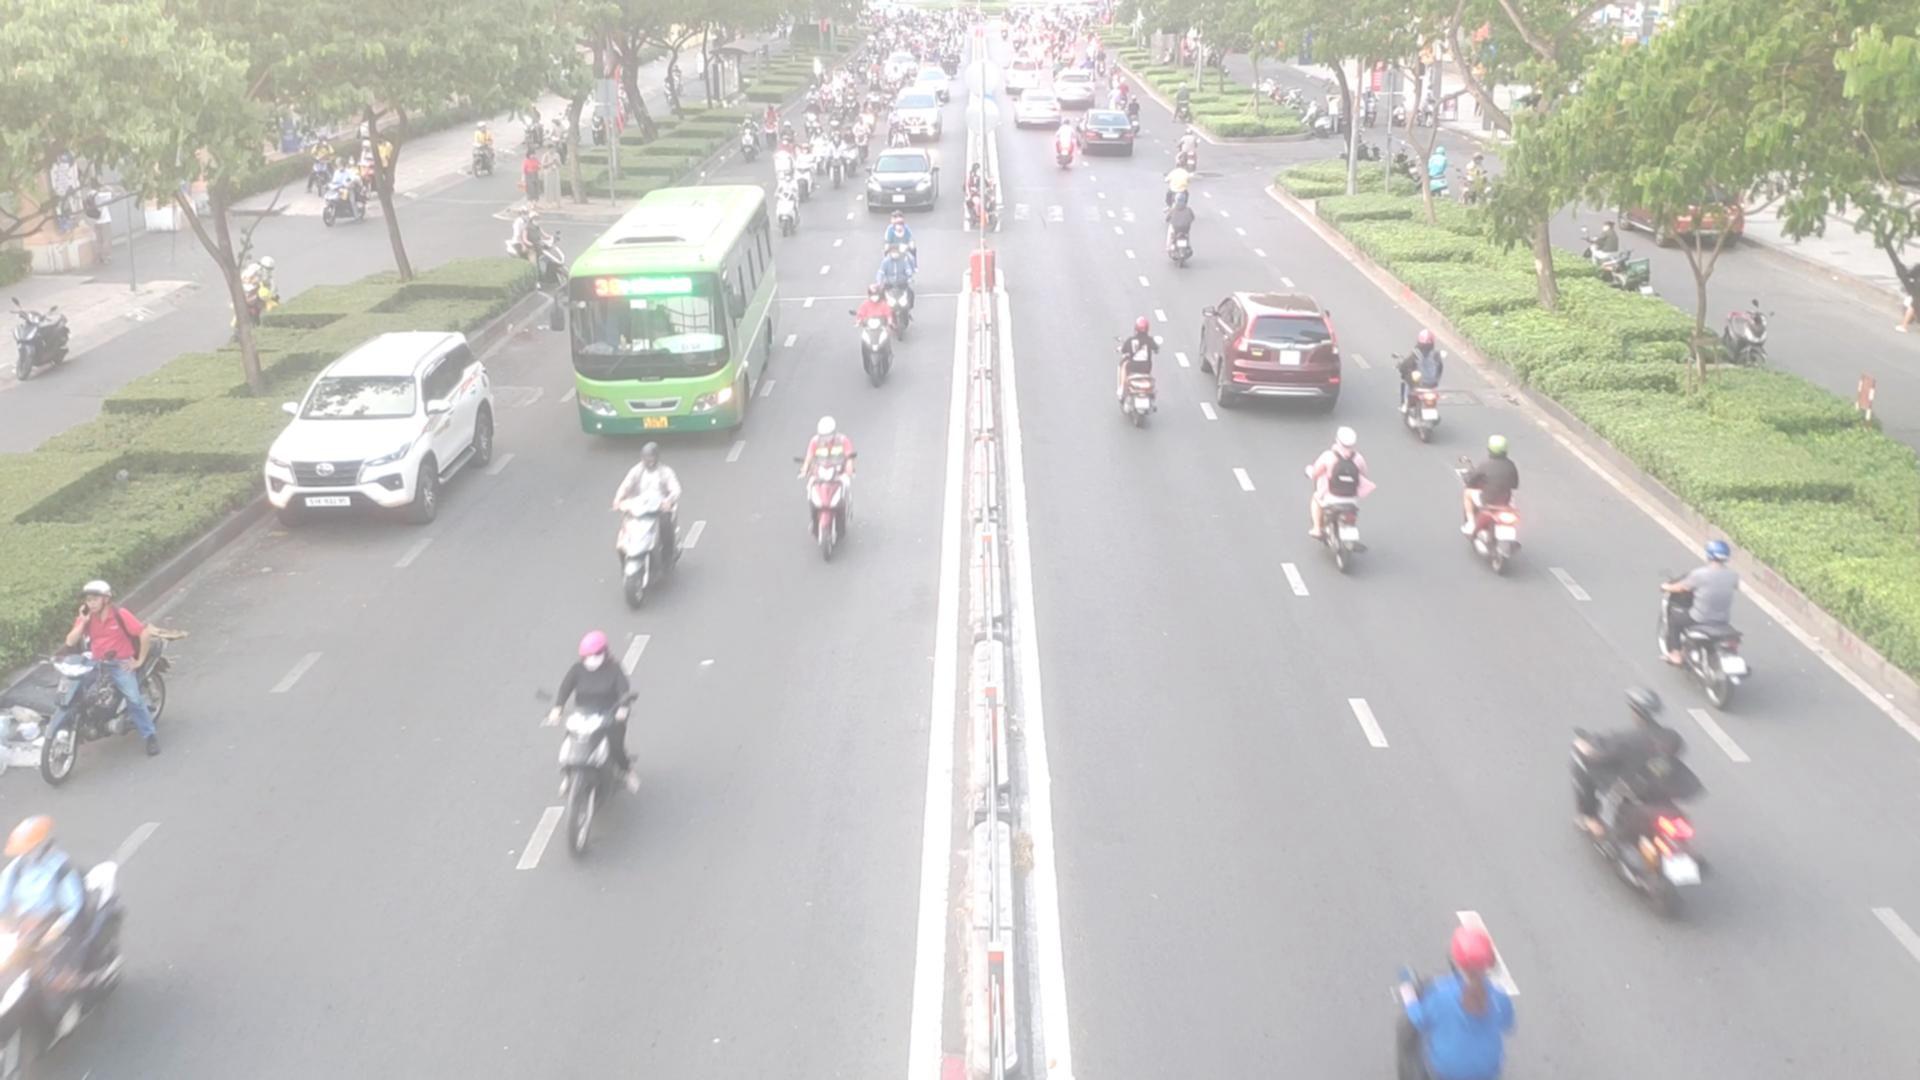bus: (558, 186, 786, 446)
car: (268, 331, 512, 527), (1200, 290, 1344, 413), (858, 150, 940, 216), (1015, 92, 1067, 131)
motorbike: (1575, 691, 1727, 911), (15, 582, 169, 781), (0, 823, 120, 1072), (551, 640, 651, 855), (1659, 542, 1766, 699), (790, 417, 870, 556), (611, 456, 690, 597), (1299, 438, 1378, 564), (1458, 438, 1530, 564), (1105, 311, 1167, 425), (1398, 328, 1458, 438), (849, 287, 915, 381), (1160, 196, 1200, 266), (971, 179, 1015, 239), (1051, 125, 1080, 170)
